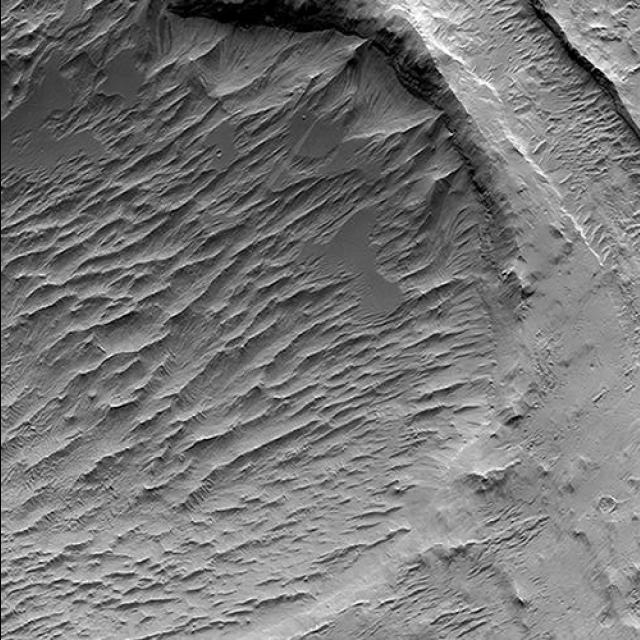crater: (0, 0, 526, 640), (590, 0, 640, 58)
